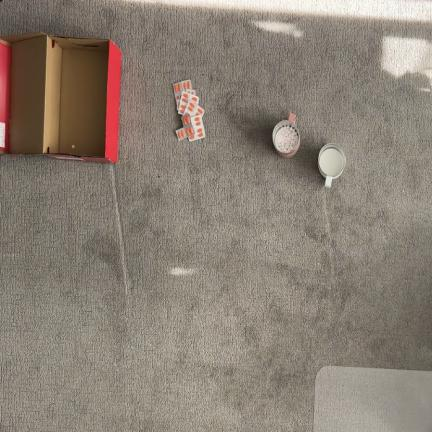IBC: (272, 113, 300, 158), (319, 143, 346, 188)
